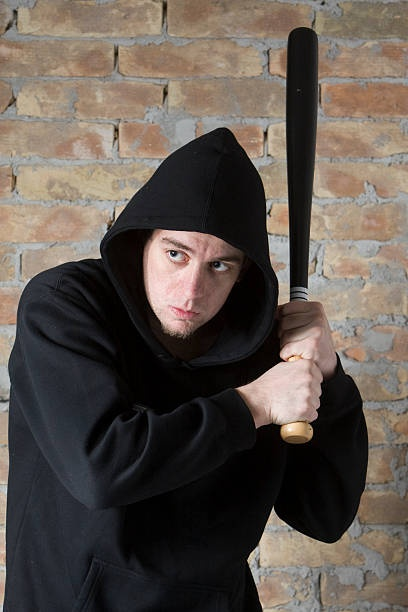bita: (282, 25, 325, 448)
